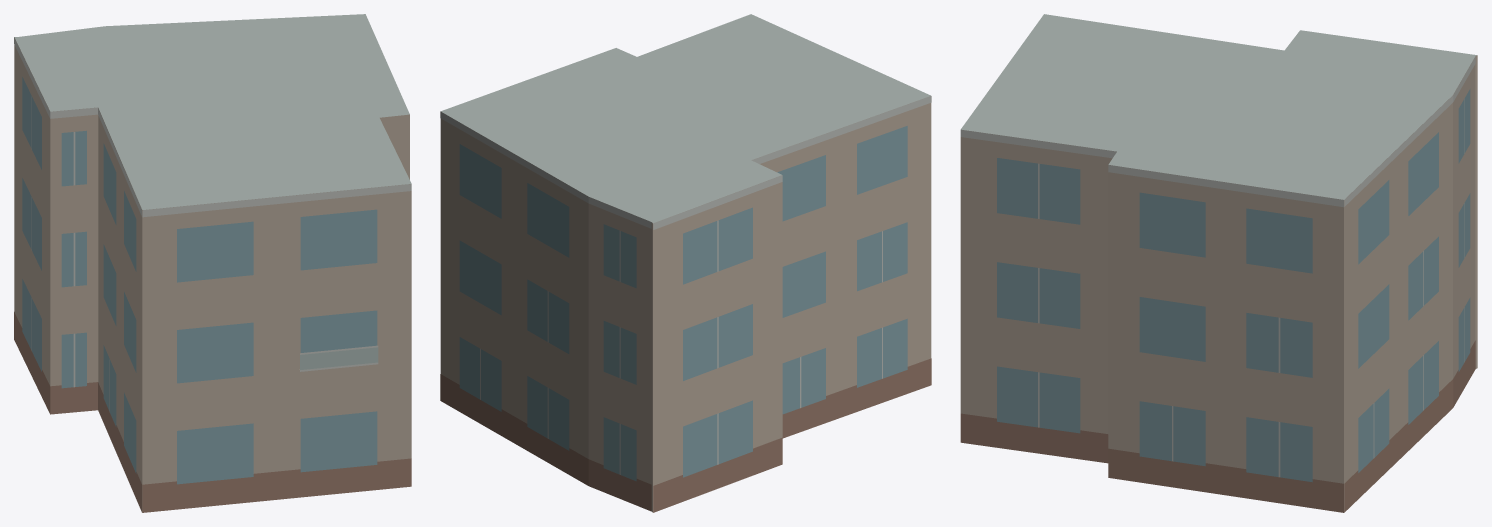
Rendered from survey-upis-32971346.glb.
3 renders of one model, left to right at view 1: azimuth 30°, elevation 25°; view 2: azimuth 150°, elevation 25°; view 3: azimuth 270°, elevation 25°, orthographic. The views are drawn at different scales.
Parts seen in each view (by area): view 1: survey-upis-32971346.tmp; view 2: survey-upis-32971346.tmp; view 3: survey-upis-32971346.tmp.
Boxes of the visible parts, box(x1,y1,x2,y2) form: survey-upis-32971346.tmp: box(14, 14, 411, 512); survey-upis-32971346.tmp: box(440, 14, 931, 512); survey-upis-32971346.tmp: box(960, 14, 1477, 512).
Size of the model in its own units: 13.13 by 10.3 by 15.43.
